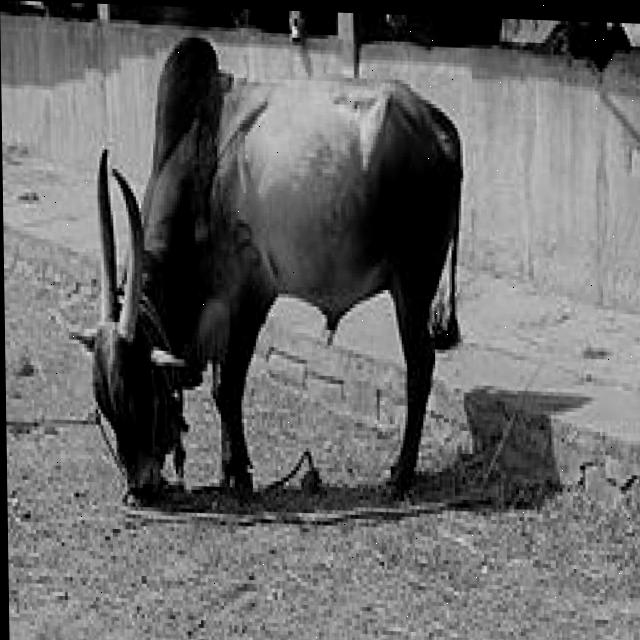Cow: (62, 25, 473, 519)
